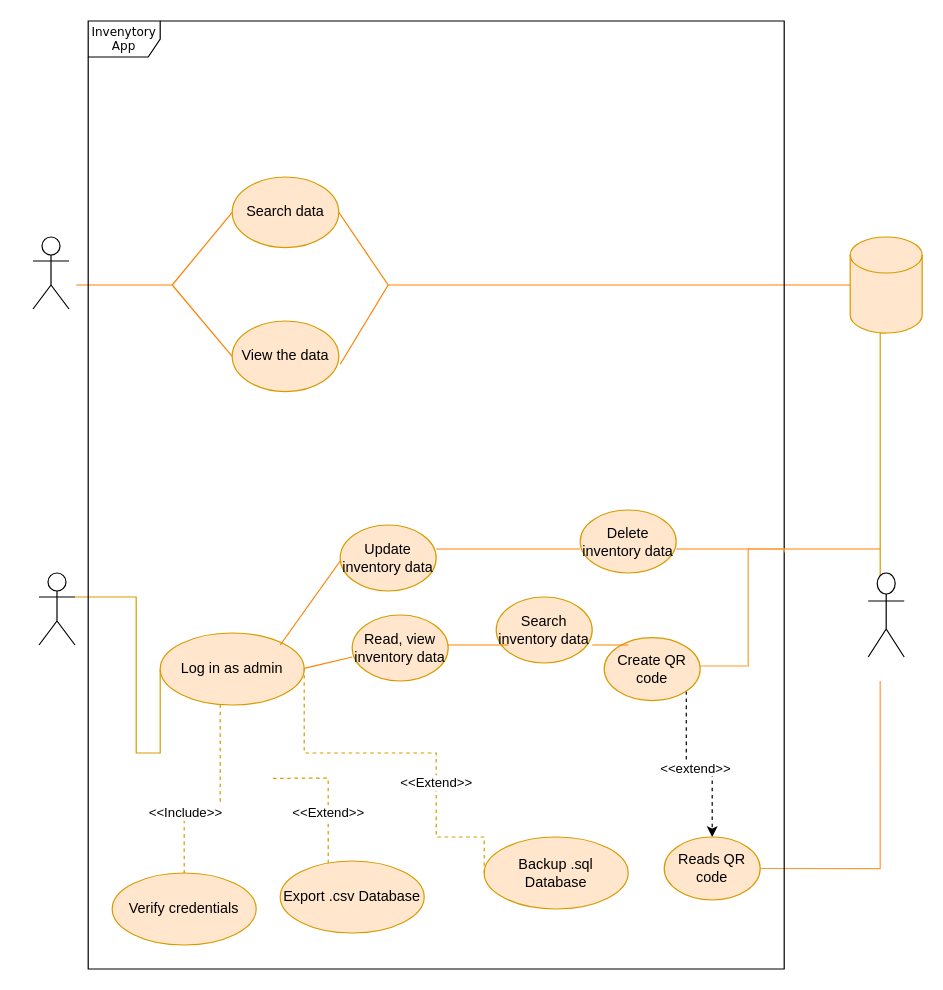
The diagram is 943 pixels wide and 990 high, and some of its shapes have lost their labels. Each missing label, with the box of its shape:
Admin: (38, 572, 75, 645)
Coaches: (32, 236, 69, 309)
Inventory database: (849, 236, 922, 333)
Volunteer: (867, 572, 904, 657)
